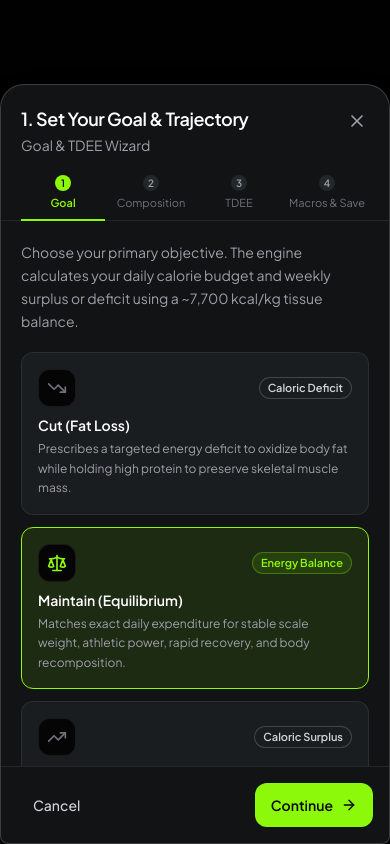
Test: NutritionGoalWizard: sex selection matches the stored value › a stored other profile is displayed as that value
Click the button "Continue" at (314, 805), box 255,783 -> 373,827
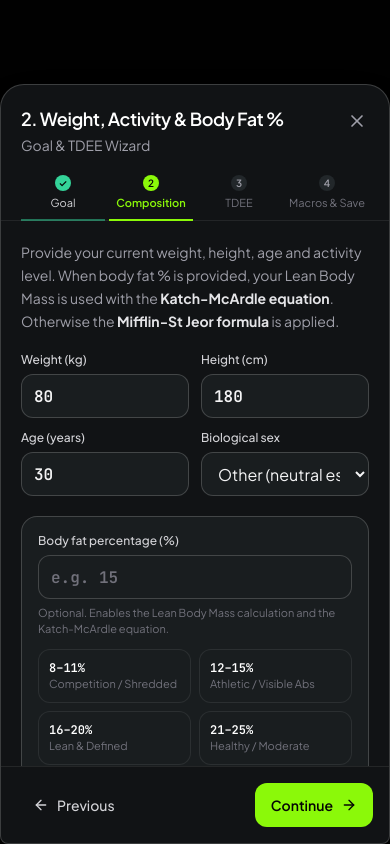
Check: the dropdown named "Biological Sex" shows "Other (neutral estimate)", box 201,452 -> 369,496
